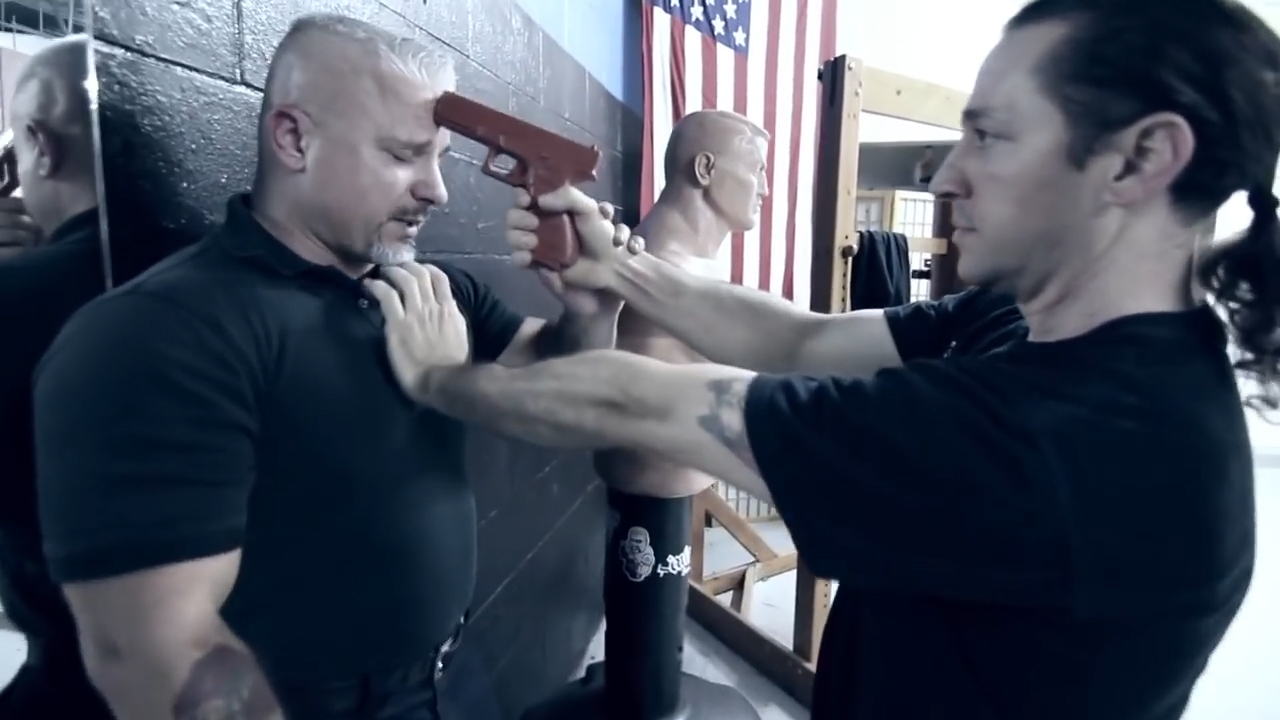pistol: (431, 90, 606, 273)
